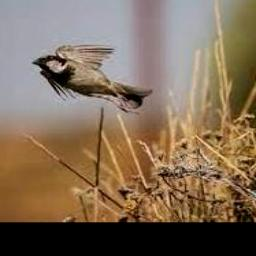Sparrow: (33, 44, 153, 114)
